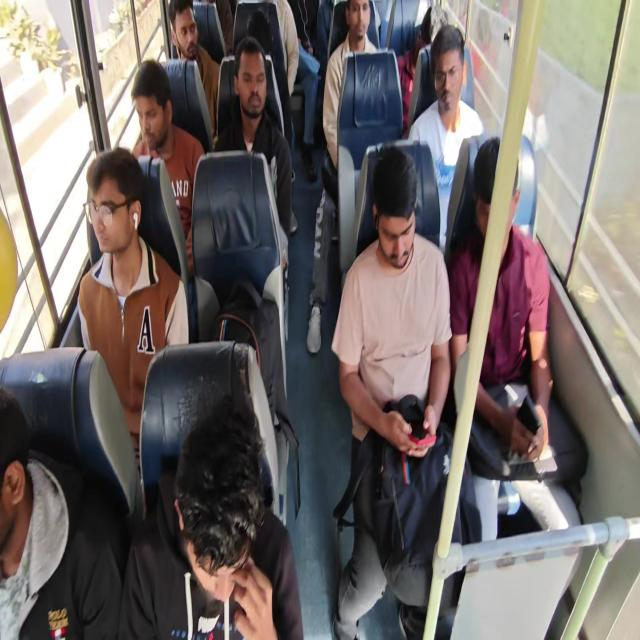person: (330, 145, 455, 638), (448, 135, 586, 542), (118, 394, 303, 639), (77, 147, 189, 476), (0, 385, 123, 639), (306, 0, 379, 354), (214, 35, 293, 339), (408, 24, 484, 252), (130, 58, 206, 278), (322, 0, 378, 172), (168, 0, 220, 139), (287, 0, 321, 183), (397, 6, 433, 135)
